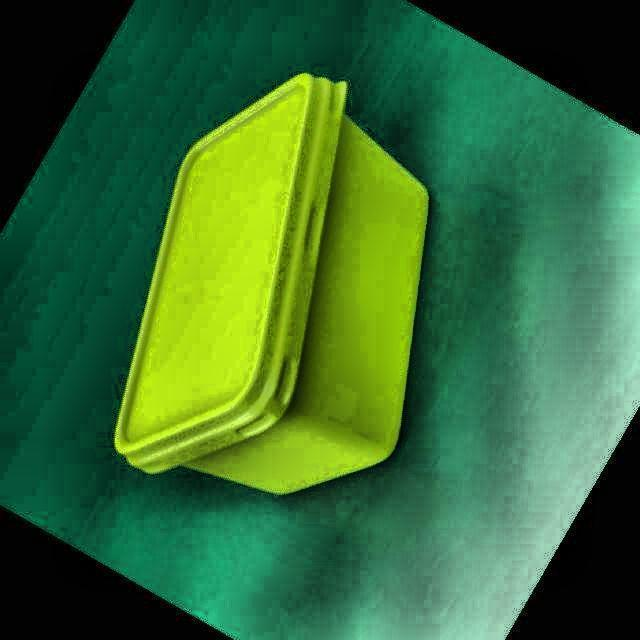plastic: (115, 74, 429, 493)
